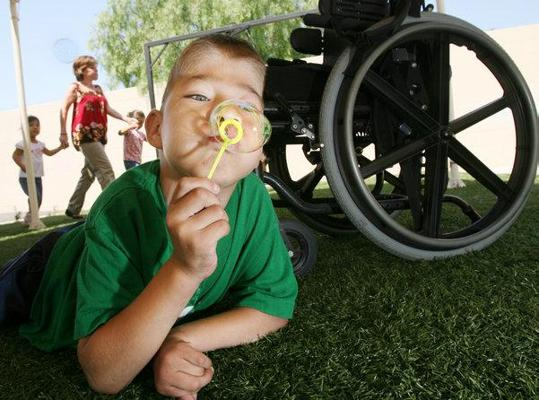person: (4, 36, 302, 400)
